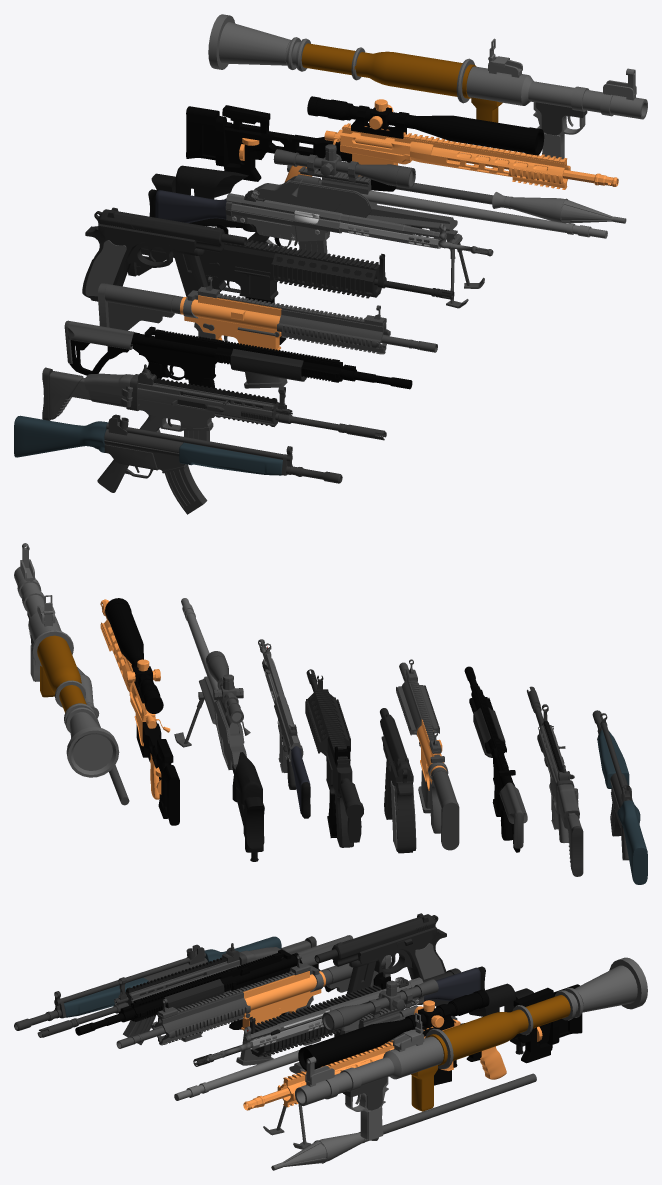
Rendered from weapon_pack_of_10100_part_9.glb.
3 views of the same model, one above another, from view 1: azimuth 30°, elevation 25°; view 2: azimuth 150°, elevation 25°; view 3: azimuth 270°, elevation 25° (orthographic). The views are drawn at different scales.
Visible parts, largest first — view 1: RPG7, Remington_Scoplu_Applied, Blaser_R93, HK417A2, HK33, MK17, MK12, HK_416, HK_G3, CZ_75_Auto; view 2: RPG7, Remington_Scoplu_Applied, Blaser_R93, HK_416, HK417A2, MK12, HK33, MK17, CZ_75_Auto, HK_G3; view 3: RPG7, Remington_Scoplu_Applied, HK417A2, Blaser_R93, CZ_75_Auto, MK12, HK33, HK_G3, MK17, HK_416.
Boxes of the visible parts, x1=… form: RPG7: x1=208, y1=14, x2=647, y2=223; Remington_Scoplu_Applied: x1=186, y1=96, x2=618, y2=191; Blaser_R93: x1=151, y1=144, x2=607, y2=308; HK417A2: x1=97, y1=276, x2=437, y2=388; HK33: x1=14, y1=414, x2=342, y2=514; MK17: x1=42, y1=364, x2=386, y2=441; MK12: x1=64, y1=320, x2=412, y2=389; HK_416: x1=128, y1=223, x2=454, y2=344; HK_G3: x1=148, y1=189, x2=493, y2=256; CZ_75_Auto: x1=82, y1=207, x2=247, y2=301; RPG7: x1=14, y1=543, x2=129, y2=805; Remington_Scoplu_Applied: x1=100, y1=598, x2=179, y2=825; Blaser_R93: x1=174, y1=598, x2=264, y2=861; HK_416: x1=305, y1=669, x2=363, y2=847; HK417A2: x1=396, y1=659, x2=459, y2=850; MK12: x1=464, y1=666, x2=527, y2=852; HK33: x1=592, y1=710, x2=647, y2=884; MK17: x1=527, y1=686, x2=583, y2=876; CZ_75_Auto: x1=380, y1=708, x2=416, y2=853; HK_G3: x1=258, y1=639, x2=310, y2=818; RPG7: x1=271, y1=957, x2=647, y2=1170; Remington_Scoplu_Applied: x1=243, y1=984, x2=582, y2=1110; HK417A2: x1=116, y1=954, x2=391, y2=1065; Blaser_R93: x1=174, y1=979, x2=533, y2=1149; CZ_75_Auto: x1=314, y1=913, x2=446, y2=1004; MK12: x1=75, y1=935, x2=353, y2=1035; HK33: x1=14, y1=936, x2=281, y2=1044; HK_G3: x1=206, y1=966, x2=485, y2=1061; MK17: x1=37, y1=936, x2=316, y2=1041; HK_416: x1=193, y1=968, x2=460, y2=1092.
Size of the model in its own units: 83.81 by 31.06 by 75.17.
2 materials, 2 textured.
